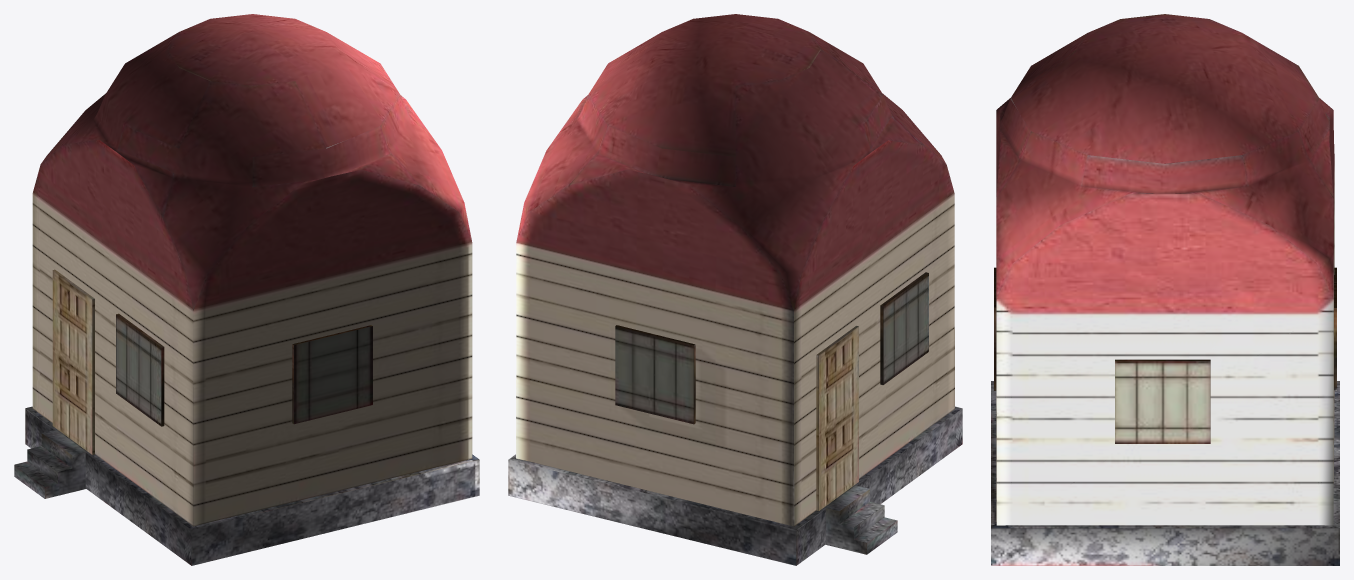
File: Casa2.fbx
The picture shows the model from 3 angles, left to right: view 1: azimuth 30°, elevation 25°; view 2: azimuth 150°, elevation 25°; view 3: azimuth 270°, elevation 25°; orthographic projection. The views are drawn at different scales.
Visible parts, largest first — view 1: Casa2_00; view 2: Casa2_00; view 3: Casa2_00.
Boxes of the visible parts, x1,y1,x2,y2 form: Casa2_00: (14, 14, 479, 565); Casa2_00: (508, 14, 962, 565); Casa2_00: (991, 14, 1339, 565).
Bounding box in the file's own units: 3.15 × 4 × 2.76.
